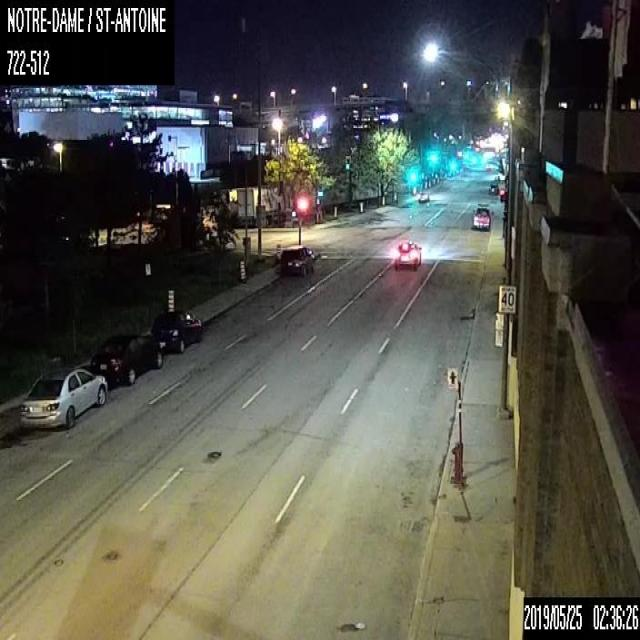construction: (166, 288, 173, 308), (238, 258, 244, 278), (275, 243, 280, 261)
vehicle: (19, 366, 108, 431), (90, 331, 162, 384), (151, 309, 202, 351), (277, 243, 314, 276), (393, 237, 421, 271), (471, 201, 491, 228), (488, 180, 498, 192), (418, 191, 429, 201)
